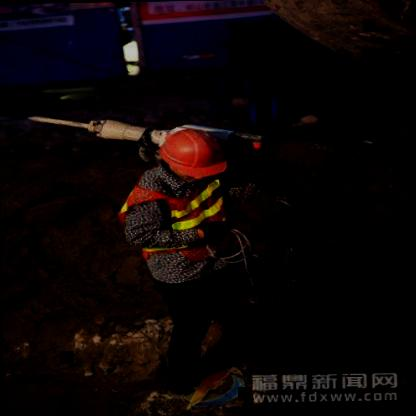helmet: (154, 126, 230, 184)
